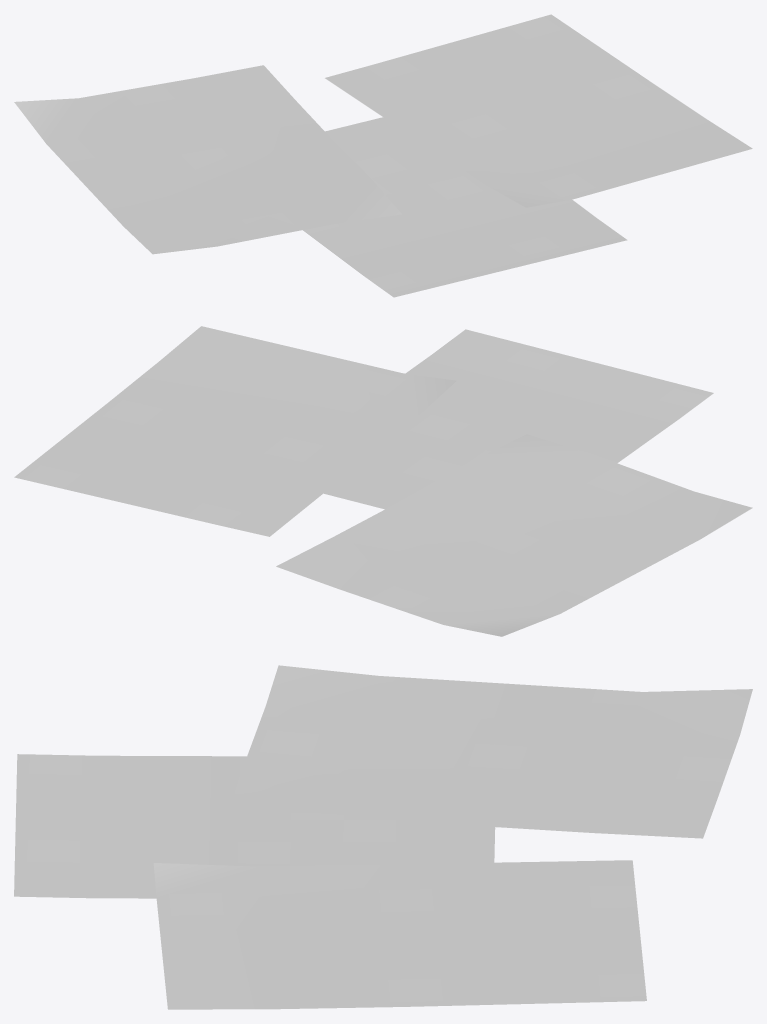
Rendered from a_sch_entrance01_obj_paper06.gltf.
3 views of the same model, one above another, from view 1: azimuth 30°, elevation 25°; view 2: azimuth 150°, elevation 25°; view 3: azimuth 270°, elevation 25° (orthographic). The views are drawn at different scales.
Visible parts, largest first — view 1: a_sch_entrance01_obj_paper06_mesh_shape:a_sch_class1a_paper0; view 2: a_sch_entrance01_obj_paper06_mesh_shape:a_sch_class1a_paper0; view 3: a_sch_entrance01_obj_paper06_mesh_shape:a_sch_class1a_paper0.
Part boxes in pixels (x1,y1,x2,y2): a_sch_entrance01_obj_paper06_mesh_shape:a_sch_class1a_paper0: [14, 14, 752, 297]; a_sch_entrance01_obj_paper06_mesh_shape:a_sch_class1a_paper0: [14, 326, 752, 636]; a_sch_entrance01_obj_paper06_mesh_shape:a_sch_class1a_paper0: [14, 665, 752, 1009].
Bounding box in the file's own units: 0.6918 × 0.00941 × 0.6239.
Materials: 1 (1 with a texture image).
